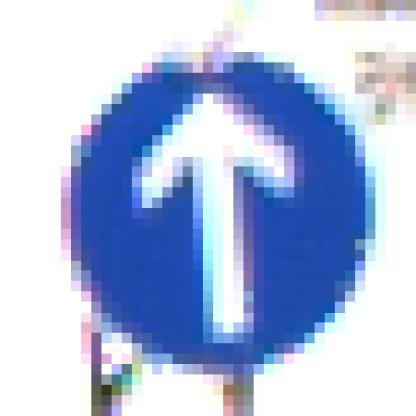AheadOnly: (52, 53, 366, 365)
